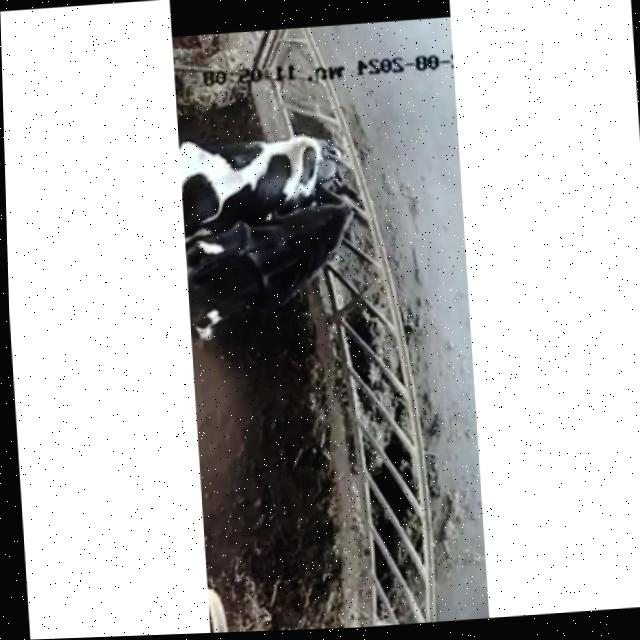eat: (255, 195, 397, 288), (242, 123, 377, 204)
